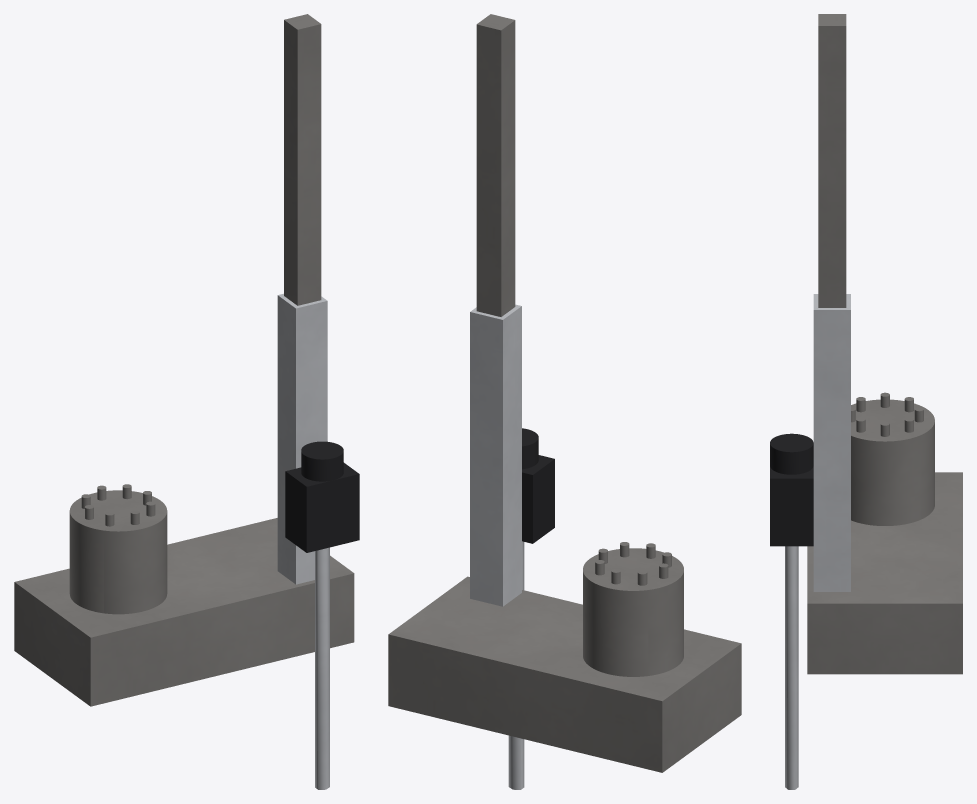
Rendered from rover31_drill_mast_drilling.glb.
3 renders of one model, left to right at view 1: azimuth 30°, elevation 25°; view 2: azimuth 150°, elevation 25°; view 3: azimuth 270°, elevation 25°, orthographic. The views are drawn at different scales.
Parts seen in each view (by area): view 1: base, carousel, mast_inner, mast_outer, mast_head, mast_drill_string; view 2: base, mast_outer, carousel, mast_inner, mast_head, mast_drill_string; view 3: base, mast_outer, carousel, mast_inner, mast_head, mast_drill_string.
Part boxes in pixels (left/top/right/bottom): base: left=14, top=518, right=354, bottom=706; carousel: left=69, top=484, right=167, bottom=614; mast_inner: left=284, top=14, right=321, bottom=305; mast_outer: left=277, top=293, right=327, bottom=584; mast_head: left=285, top=441, right=359, bottom=552; mast_drill_string: left=315, top=547, right=329, bottom=789; base: left=388, top=576, right=741, bottom=772; mast_outer: left=470, top=304, right=521, bottom=606; carousel: left=583, top=542, right=683, bottom=676; mast_inner: left=476, top=14, right=515, bottom=316; mast_head: left=522, top=428, right=554, bottom=543; mast_drill_string: left=508, top=541, right=524, bottom=789; base: left=807, top=472, right=962, bottom=674; mast_outer: left=813, top=294, right=850, bottom=591; carousel: left=851, top=392, right=934, bottom=525; mast_inner: left=818, top=14, right=846, bottom=307; mast_head: left=770, top=433, right=813, bottom=546; mast_drill_string: left=785, top=546, right=798, bottom=789.
Size of the model in its own units: 1 by 2.72 by 0.62.
Materials: 3 (2 with a texture image).
